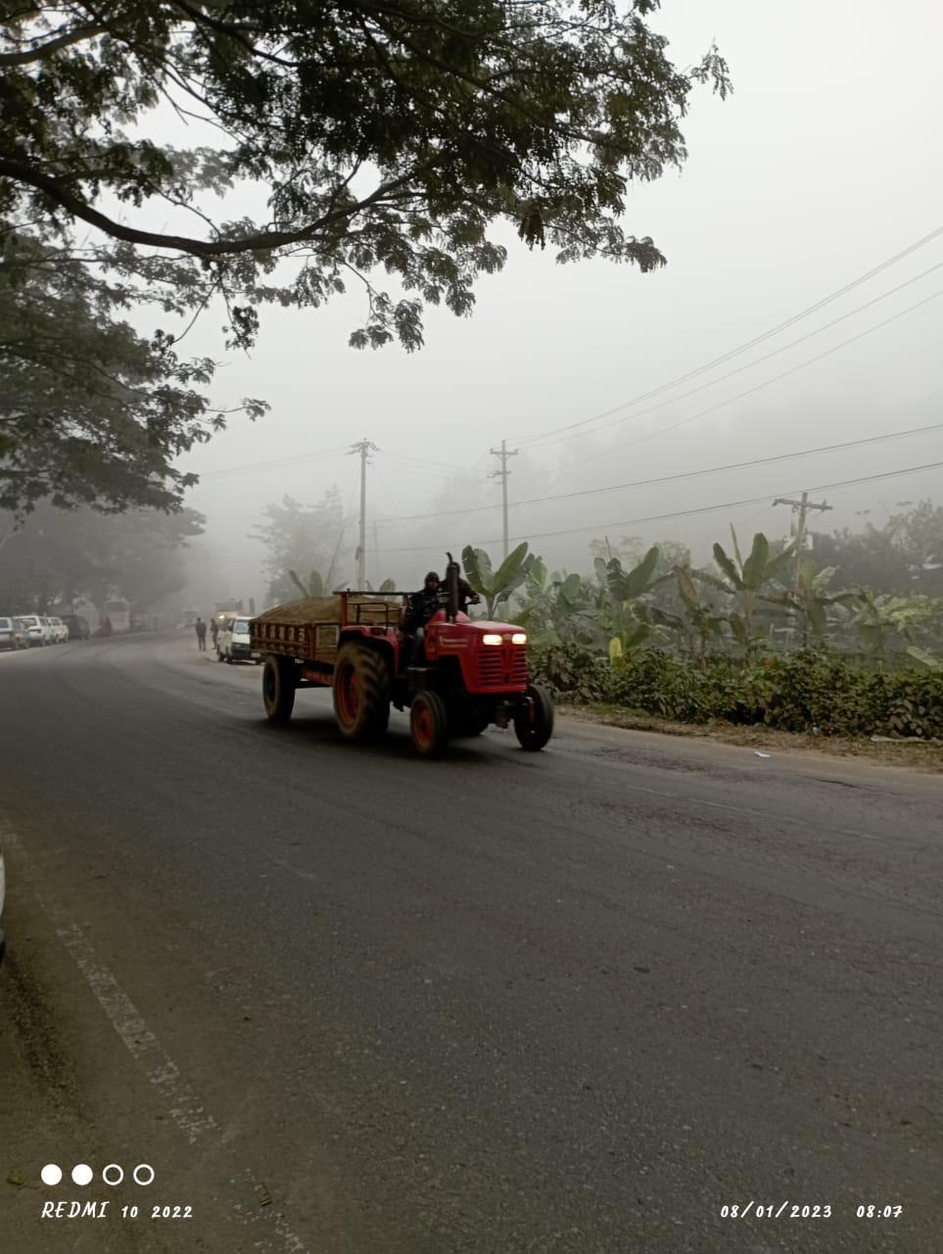Car: (216, 607, 259, 669)
Truck: (244, 560, 580, 749)
